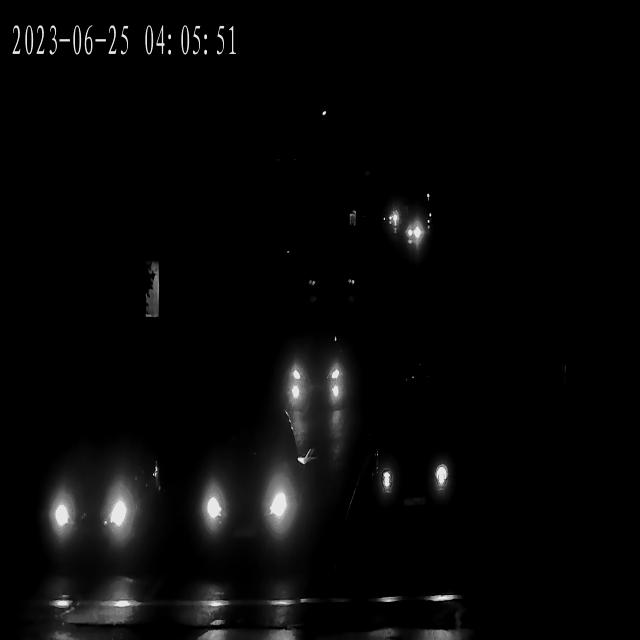Car: (38, 429, 158, 568), (183, 446, 307, 567), (368, 424, 458, 514), (281, 329, 355, 406), (402, 223, 426, 243), (403, 226, 425, 246), (382, 212, 402, 228)
